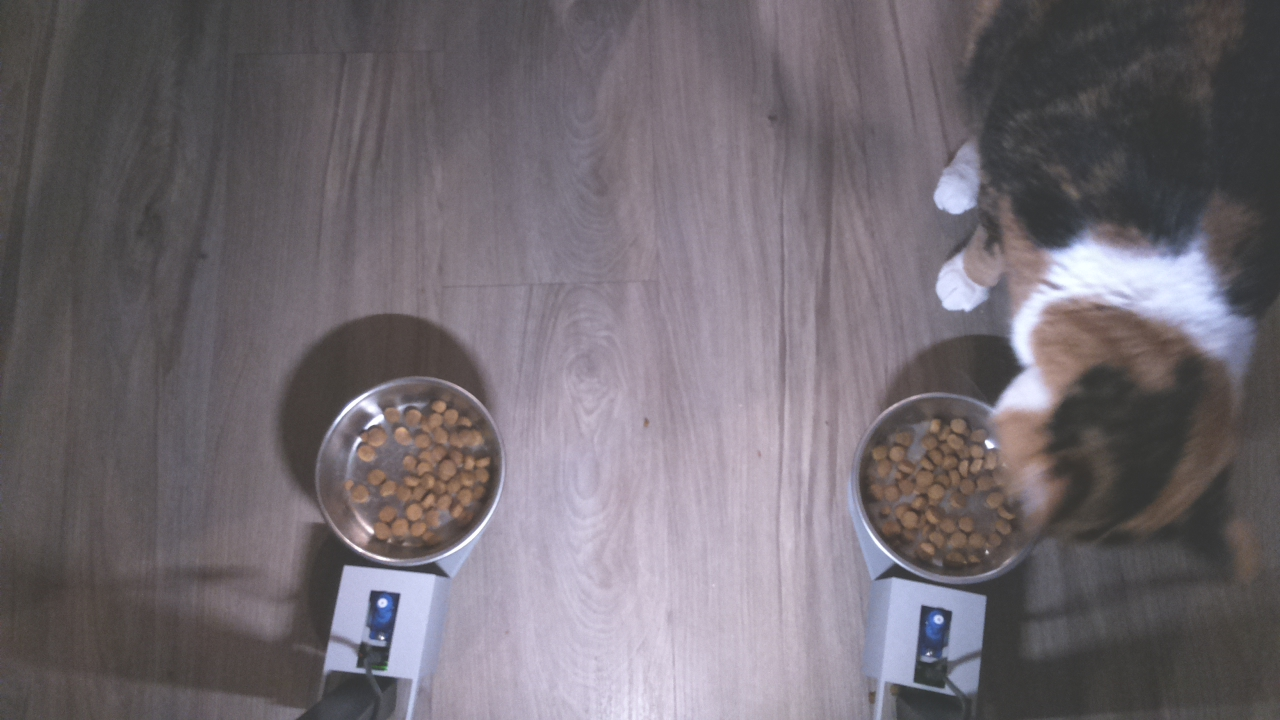bella: (994, 294, 1272, 604)
open_bowl: (307, 370, 501, 573), (854, 387, 1006, 583)
